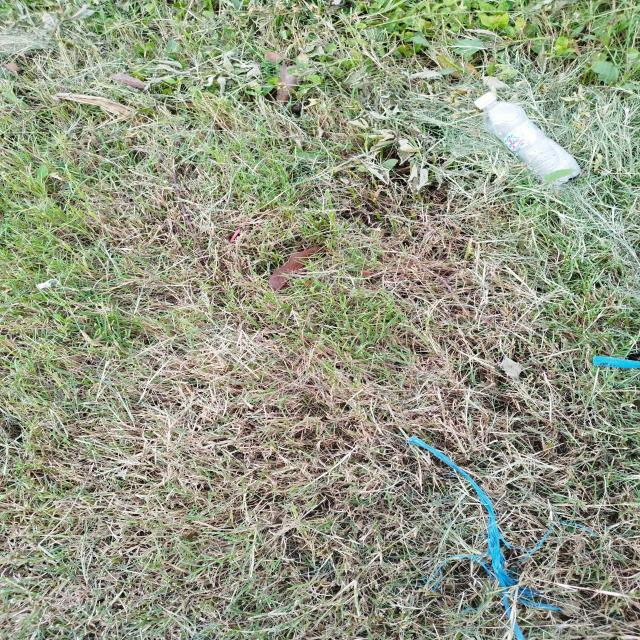bottle: (474, 92, 582, 186)
